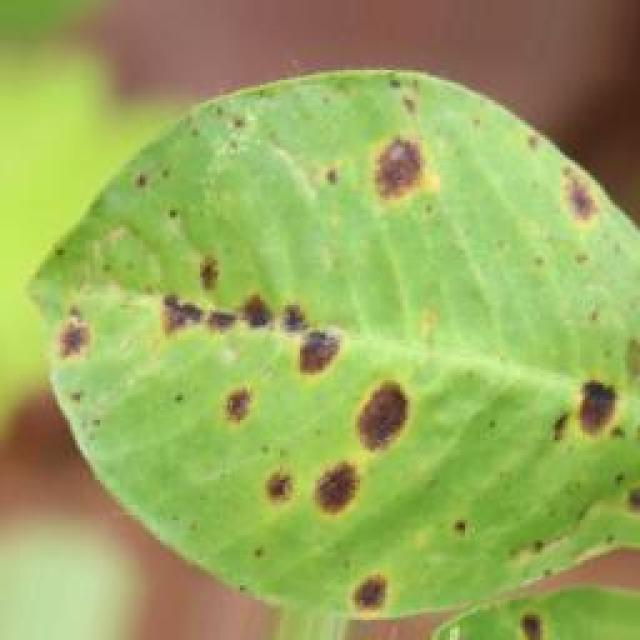Yellowish: (40, 92, 638, 640)
